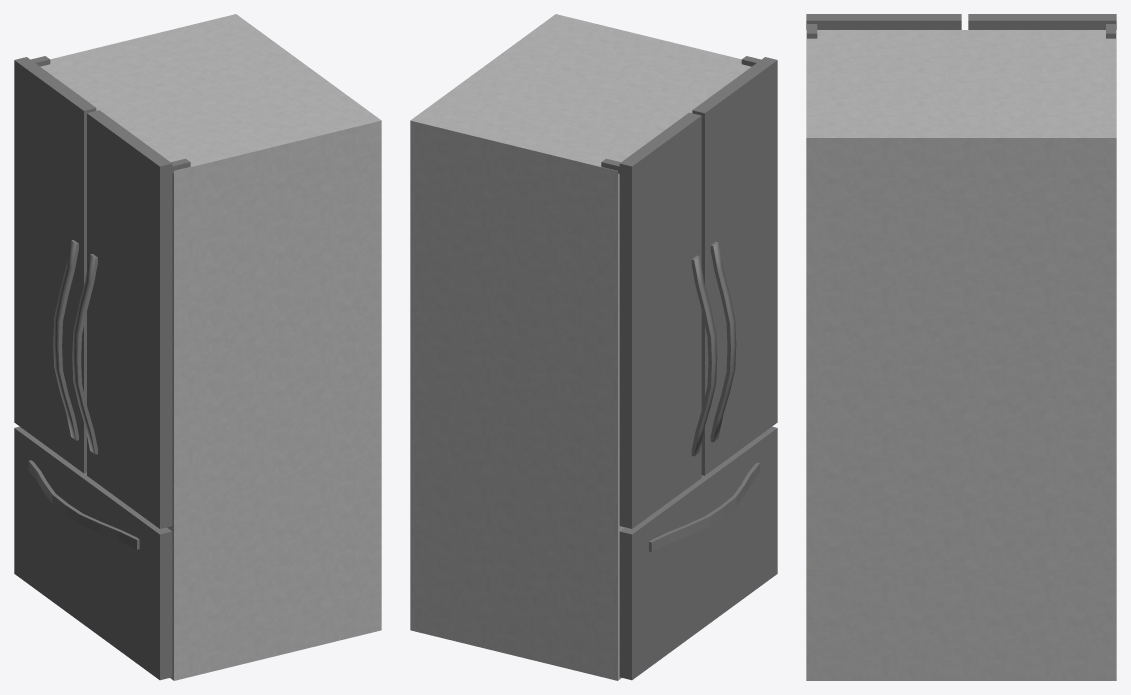
File: BreakroomRefridgerator.fbx
3 views of the same model, side by side, from view 1: azimuth 30°, elevation 25°; view 2: azimuth 150°, elevation 25°; view 3: azimuth 270°, elevation 25° (orthographic). The views are drawn at different scales.
Visible parts, largest first — view 1: BreakroomRefridgerator; view 2: BreakroomRefridgerator; view 3: BreakroomRefridgerator.
Part boxes in pixels (bbox=[...]): BreakroomRefridgerator: bbox=[14, 14, 381, 680]; BreakroomRefridgerator: bbox=[410, 14, 777, 680]; BreakroomRefridgerator: bbox=[806, 14, 1116, 680].
Bounding box in the file's own units: 100 × 205 × 104.
Materials: 2 (1 with a texture image).
